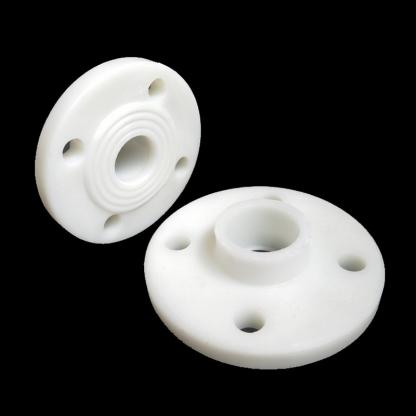FOD: (140, 184, 389, 372), (30, 54, 203, 250)
